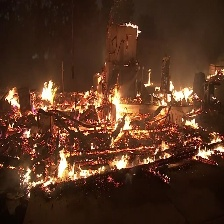fire: (54, 149, 108, 183), (107, 87, 141, 137), (156, 74, 202, 108), (22, 128, 95, 148), (69, 84, 104, 117), (31, 81, 64, 114), (21, 163, 55, 194), (192, 135, 224, 164), (142, 142, 176, 167), (4, 86, 26, 117), (114, 154, 133, 175), (184, 116, 204, 132), (127, 23, 144, 39)
